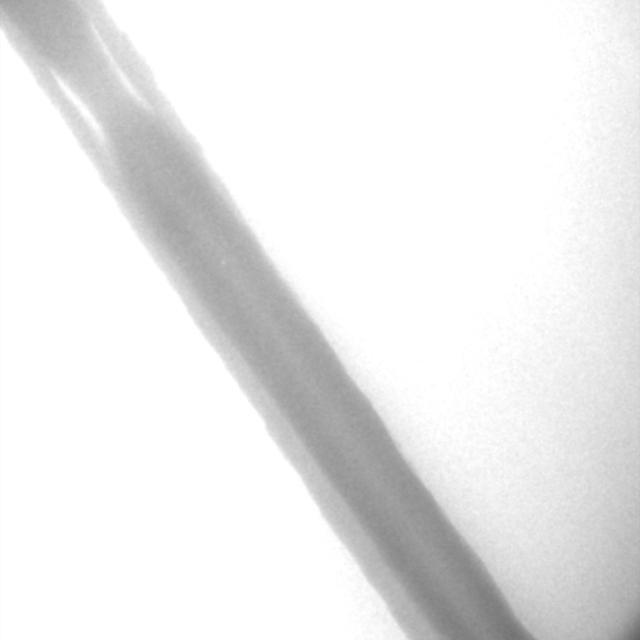unfused: (51, 20, 147, 145)
